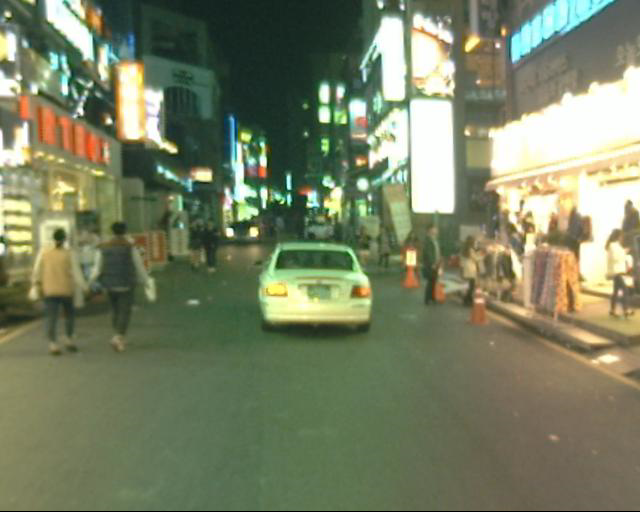person: (28, 227, 94, 355), (95, 219, 148, 349), (421, 224, 449, 308), (251, 216, 315, 247), (461, 233, 482, 309), (352, 228, 375, 278), (184, 218, 204, 266), (206, 221, 226, 268)
